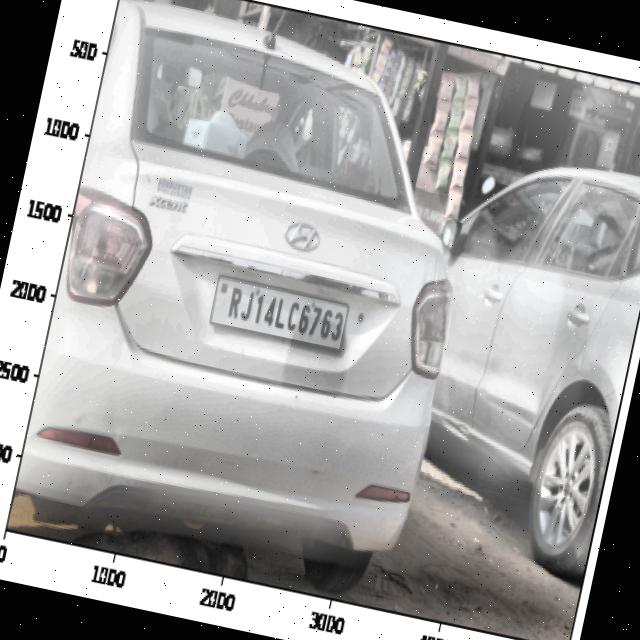license_plate: (214, 279, 354, 354)
